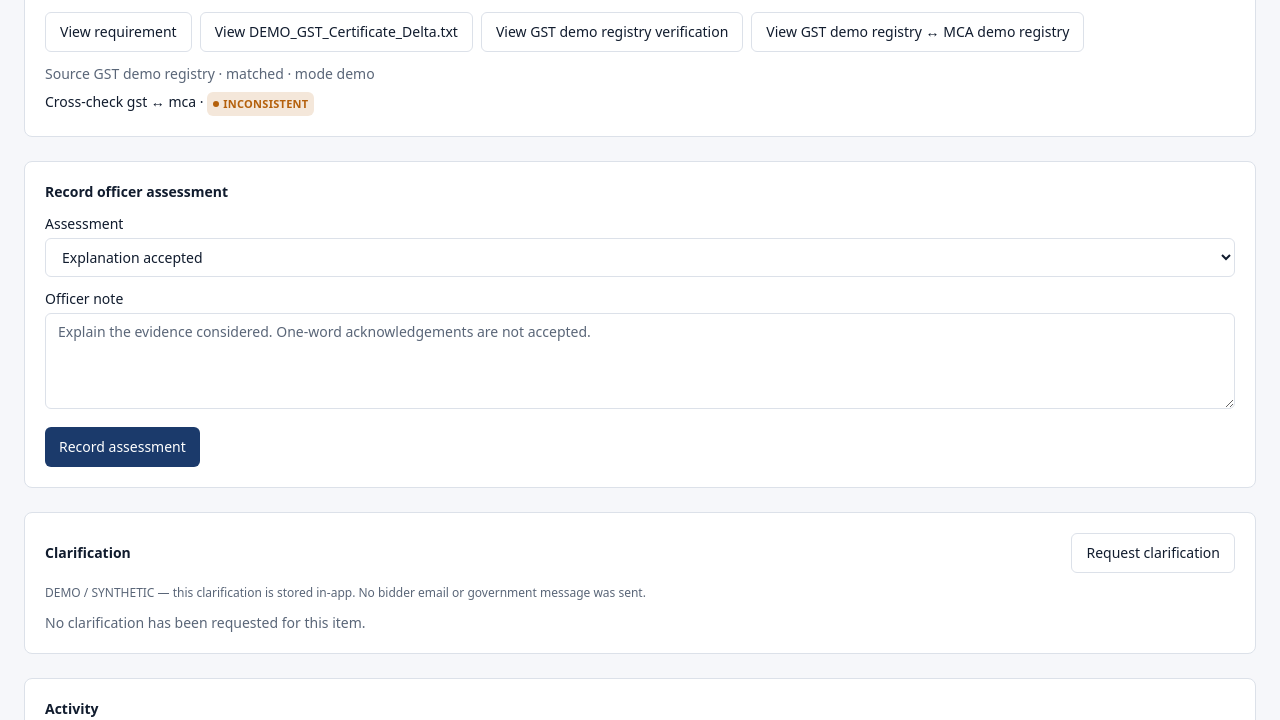
it: ReviewDetailPage › requires a substantial officer note
(page scrolled)
Replace the text in the text box labelled "Officer note" with "ok" at [640, 360], box [45,312,1235,408]
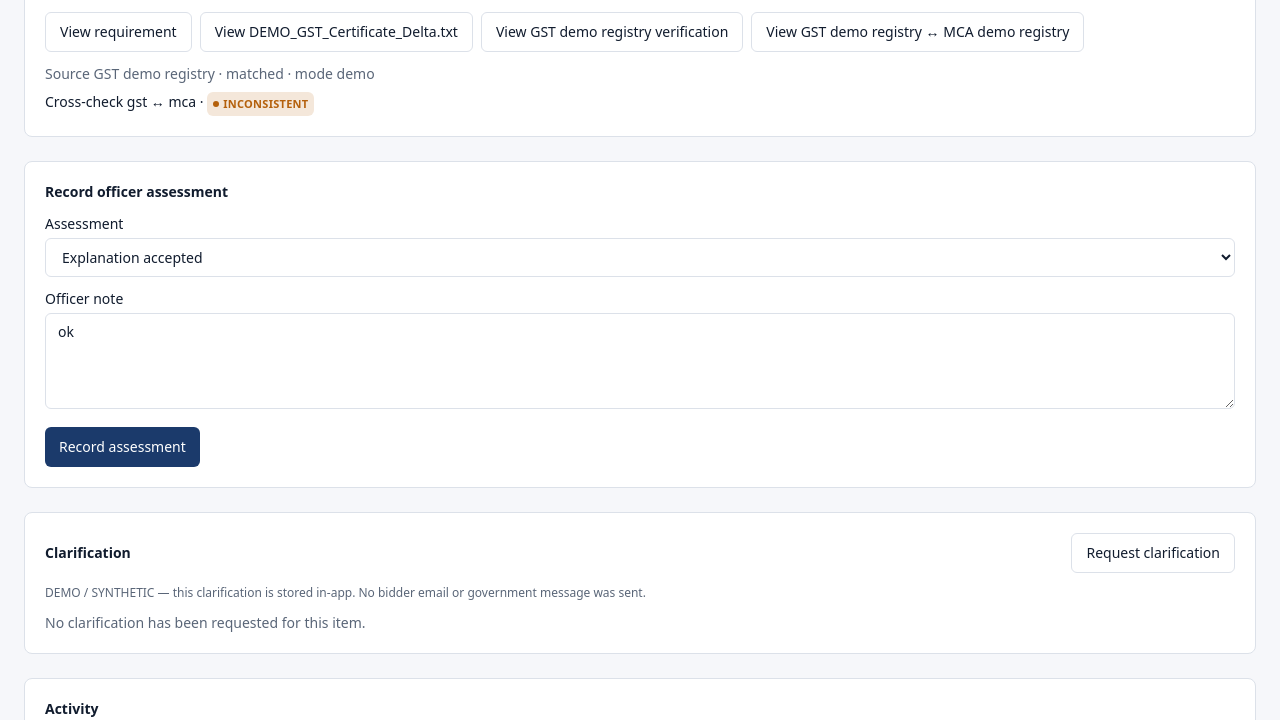
Click the button "Record assessment" at [122, 446], box [45,426,200,466]
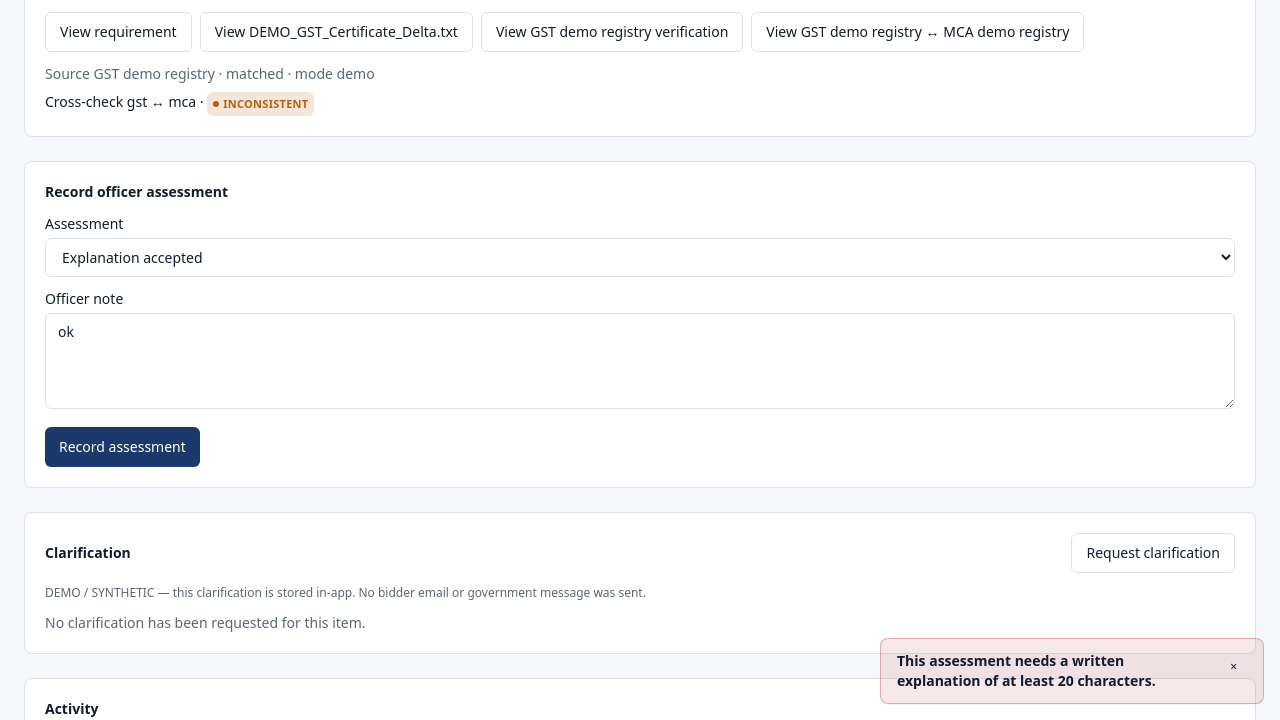
Expected: the text "This assessment needs a written explanation of at least 20 characters." is shown, [897,651,1156,690]
